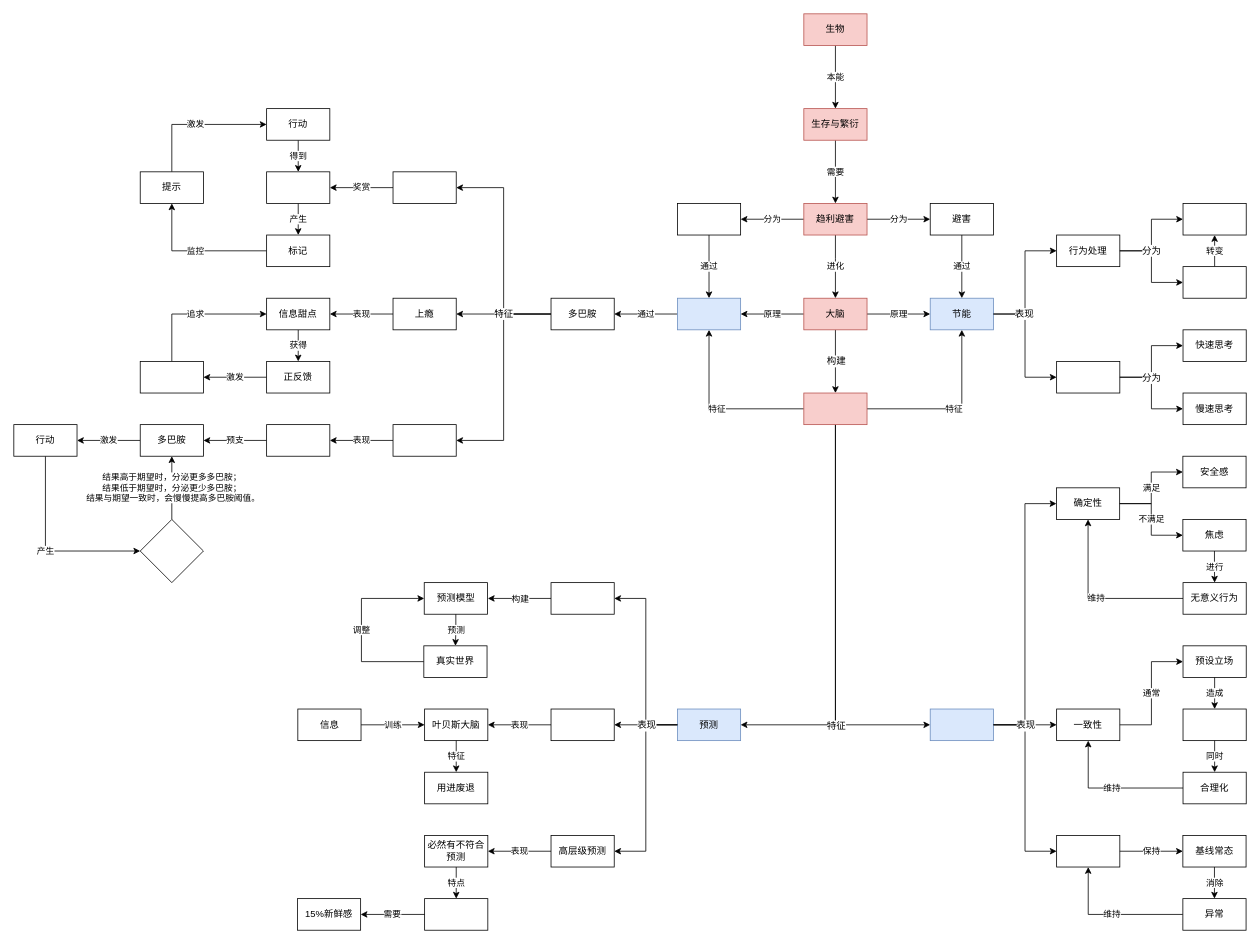
Image size: 1260x944. Some labels were removed from this diagram. The centre of each missing label's shape, as x and y in pixels:
"信息加工" goes at pixel 582 598.
"动力来源" goes at pixel 424 187.
"反馈" goes at pixel 709 313.
"可塑性" goes at pixel 582 724.
"回报" goes at pixel 298 187.
"奖赏回路" goes at pixel 171 377.
"奖赏预测误差效应" goes at pixel 424 440.
"心智世界" goes at pixel 835 408.
"排斥无聊" goes at pixel 456 914.
"控制加工" goes at pixel 1214 282.
"期望" goes at pixel 298 440.
"稳定" goes at pixel 961 724.
"结果与期望的差距" goes at pixel 171 551.
"自动化加工" goes at pixel 1214 219.
"认知过程" goes at pixel 1088 377.
"证实偏见" goes at pixel 1214 724.
"趋利" goes at pixel 709 219.
"适应性" goes at pixel 1088 851.
